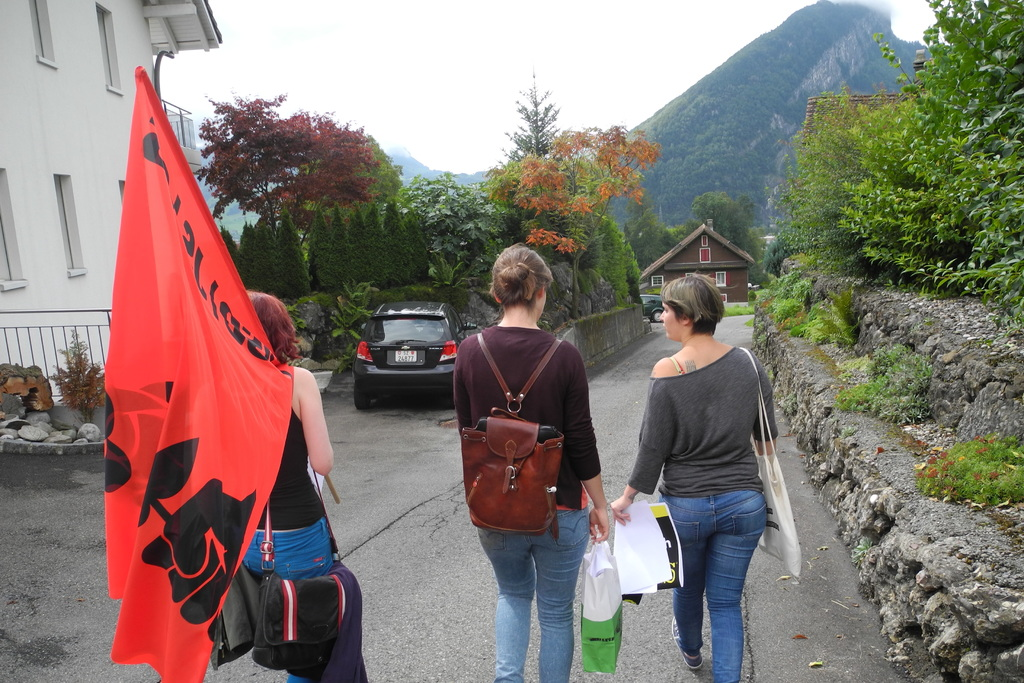Car: (349, 296, 475, 413), (635, 292, 660, 325)
